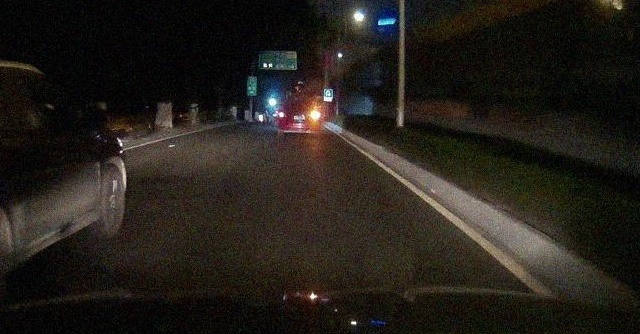L_light: (278, 112, 288, 118)
R_light: (307, 112, 319, 117)
T_light: (295, 104, 302, 106)
night-right: (277, 102, 321, 138)
